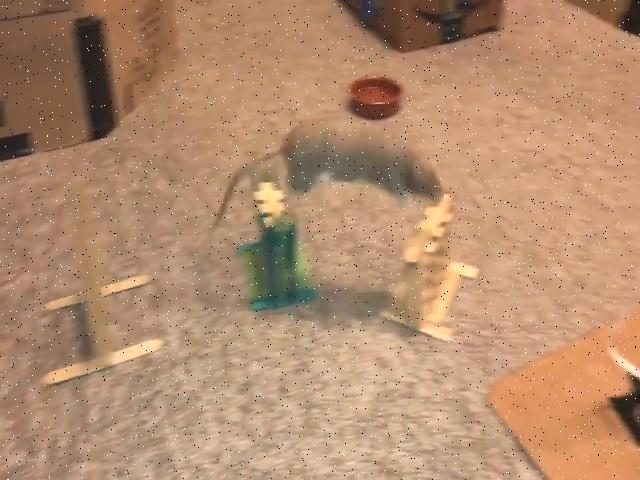Tikus: (283, 112, 445, 210)
